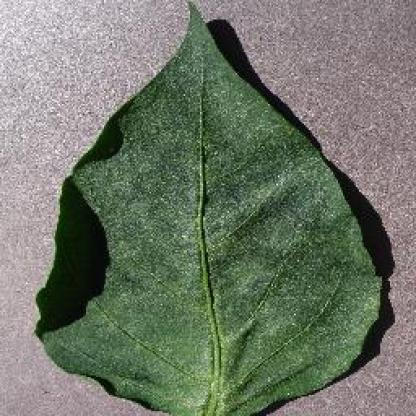bad leaf: (56, 4, 360, 415)
